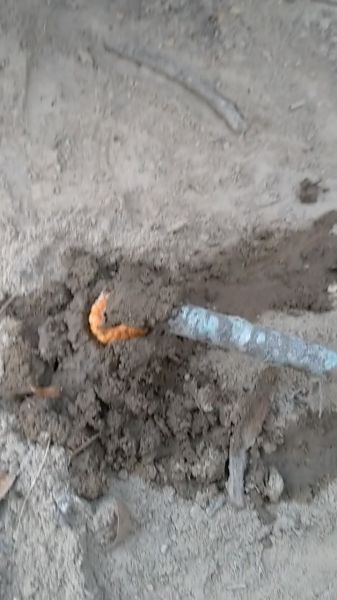eggs: (86, 290, 152, 350)
